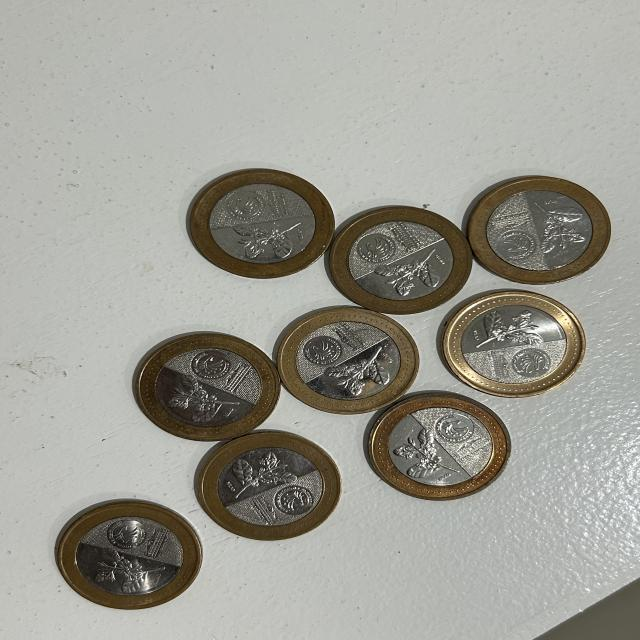20_New_Back: (159, 374, 242, 423), (223, 444, 291, 497), (85, 548, 170, 590), (374, 250, 452, 293), (395, 430, 459, 482), (328, 343, 390, 396), (531, 201, 588, 257), (232, 221, 312, 258), (479, 311, 545, 347)
